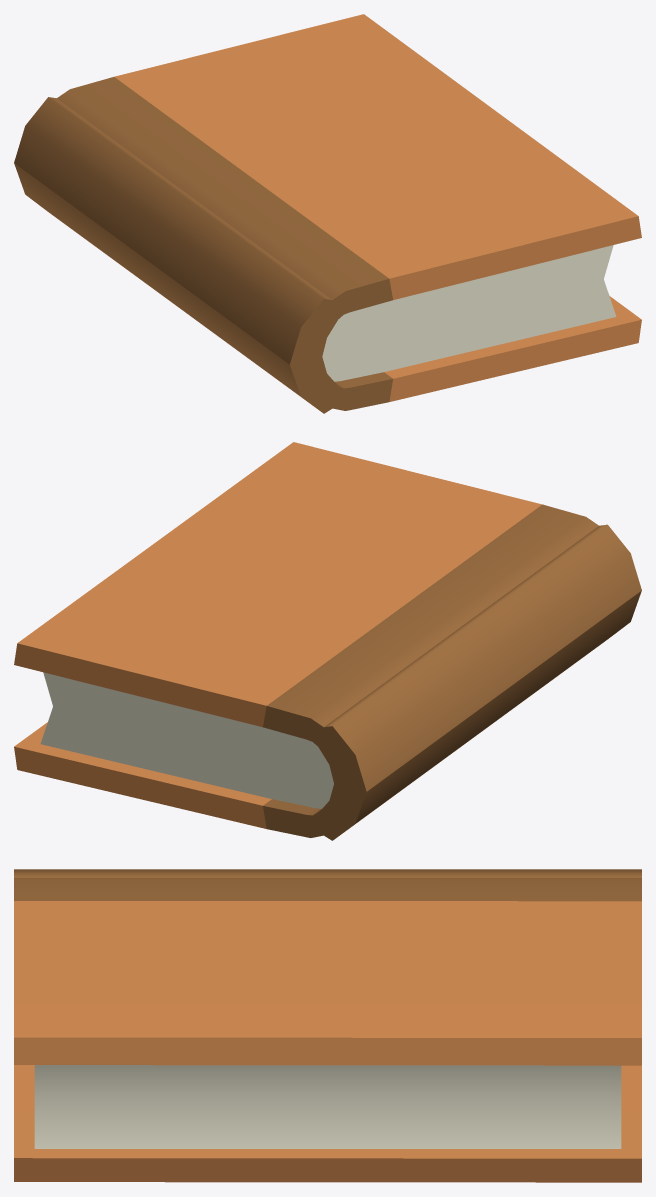
Rendered from Book_B.fbx.
3 views of the same model, one above another, from view 1: azimuth 30°, elevation 25°; view 2: azimuth 150°, elevation 25°; view 3: azimuth 270°, elevation 25° (orthographic). The views are drawn at different scales.
Parts seen in each view (by area): view 1: Book_B; view 2: Book_B; view 3: Book_B.
Part boxes in pixels (x1,y1,x2,y2): Book_B: (14, 14, 641, 413); Book_B: (14, 442, 641, 840); Book_B: (14, 869, 641, 1182).
Size of the model in its own units: 25.36 by 8.71 by 34.29.
